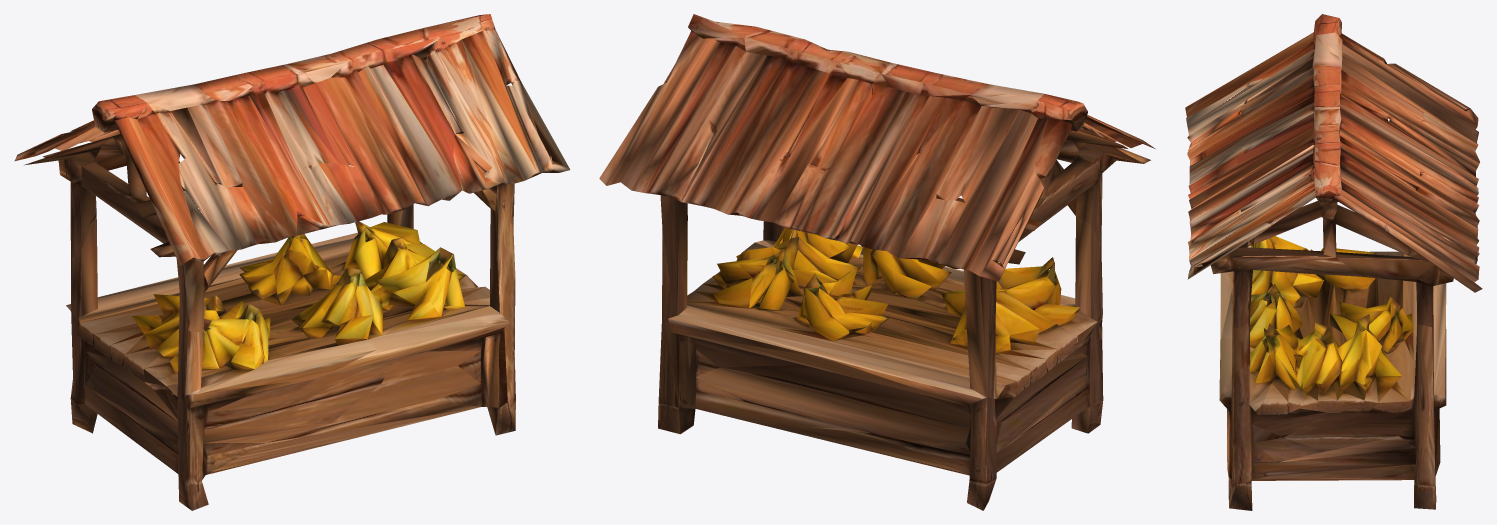
File: stall.glb
3 views of the same model, side by side, from view 1: azimuth 30°, elevation 25°; view 2: azimuth 150°, elevation 25°; view 3: azimuth 270°, elevation 25° (orthographic). The views are drawn at different scales.
Visible parts, largest first — view 1: TripoStall_Mesh; view 2: TripoStall_Mesh; view 3: TripoStall_Mesh.
Part boxes in pixels (x1=…): TripoStall_Mesh: x1=14, y1=14, x2=570, y2=510; TripoStall_Mesh: x1=599, y1=14, x2=1155, y2=510; TripoStall_Mesh: x1=1185, y1=14, x2=1482, y2=510.
Size of the model in its own units: 2.3 by 2 by 1.6.
Materials: 1 (1 with a texture image).
